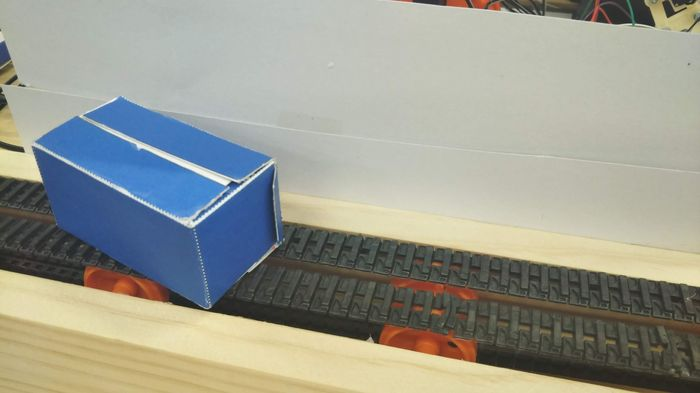box3: (28, 93, 286, 310)
